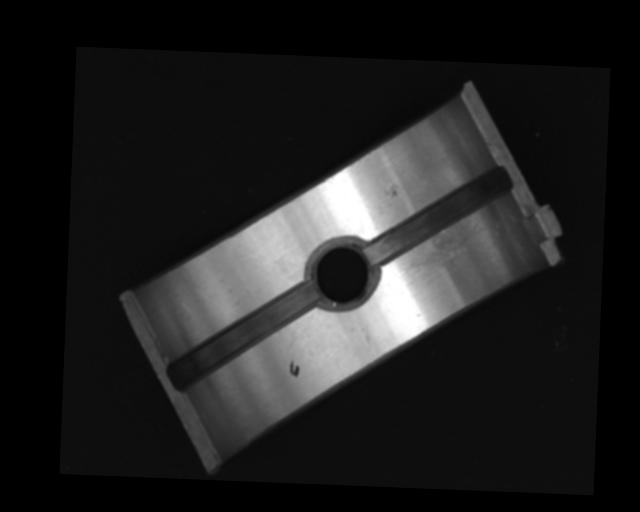blot: (288, 359, 300, 378)
bruise: (383, 181, 400, 199)
gap: (167, 277, 316, 395), (366, 160, 513, 268)
hole: (309, 235, 377, 311)
nick: (355, 321, 379, 360)
scratch: (403, 215, 485, 281)
